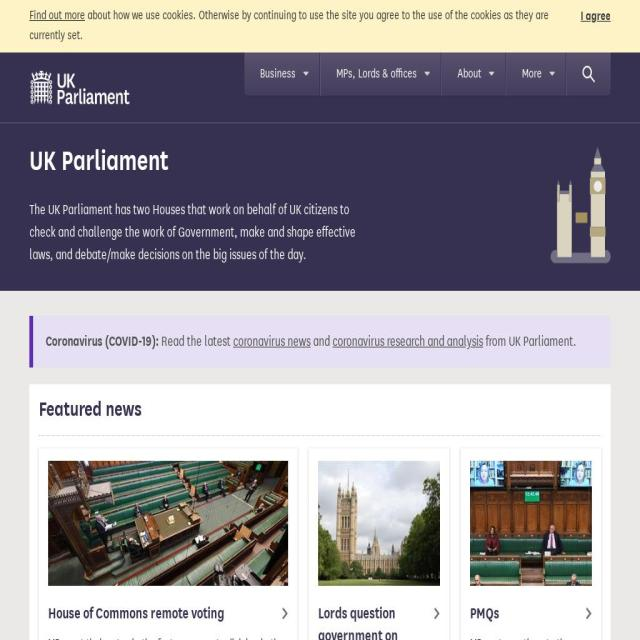button: (39, 448, 298, 640), (309, 448, 449, 640), (461, 448, 601, 640), (320, 52, 440, 96), (244, 52, 320, 96), (442, 52, 505, 96), (506, 52, 566, 96), (580, 6, 610, 26)
heading: (39, 397, 598, 422), (30, 144, 278, 178)
image: (48, 461, 288, 586), (318, 461, 440, 586), (470, 461, 592, 586), (550, 147, 611, 263)
link: (333, 333, 483, 349), (233, 333, 311, 349), (29, 8, 85, 22)
text: (29, 198, 360, 266), (29, 8, 549, 42), (48, 603, 288, 625), (318, 602, 440, 640), (470, 603, 592, 625), (45, 333, 158, 350), (48, 633, 288, 640), (483, 333, 576, 349), (159, 333, 233, 349), (470, 633, 592, 640), (310, 333, 332, 349)
